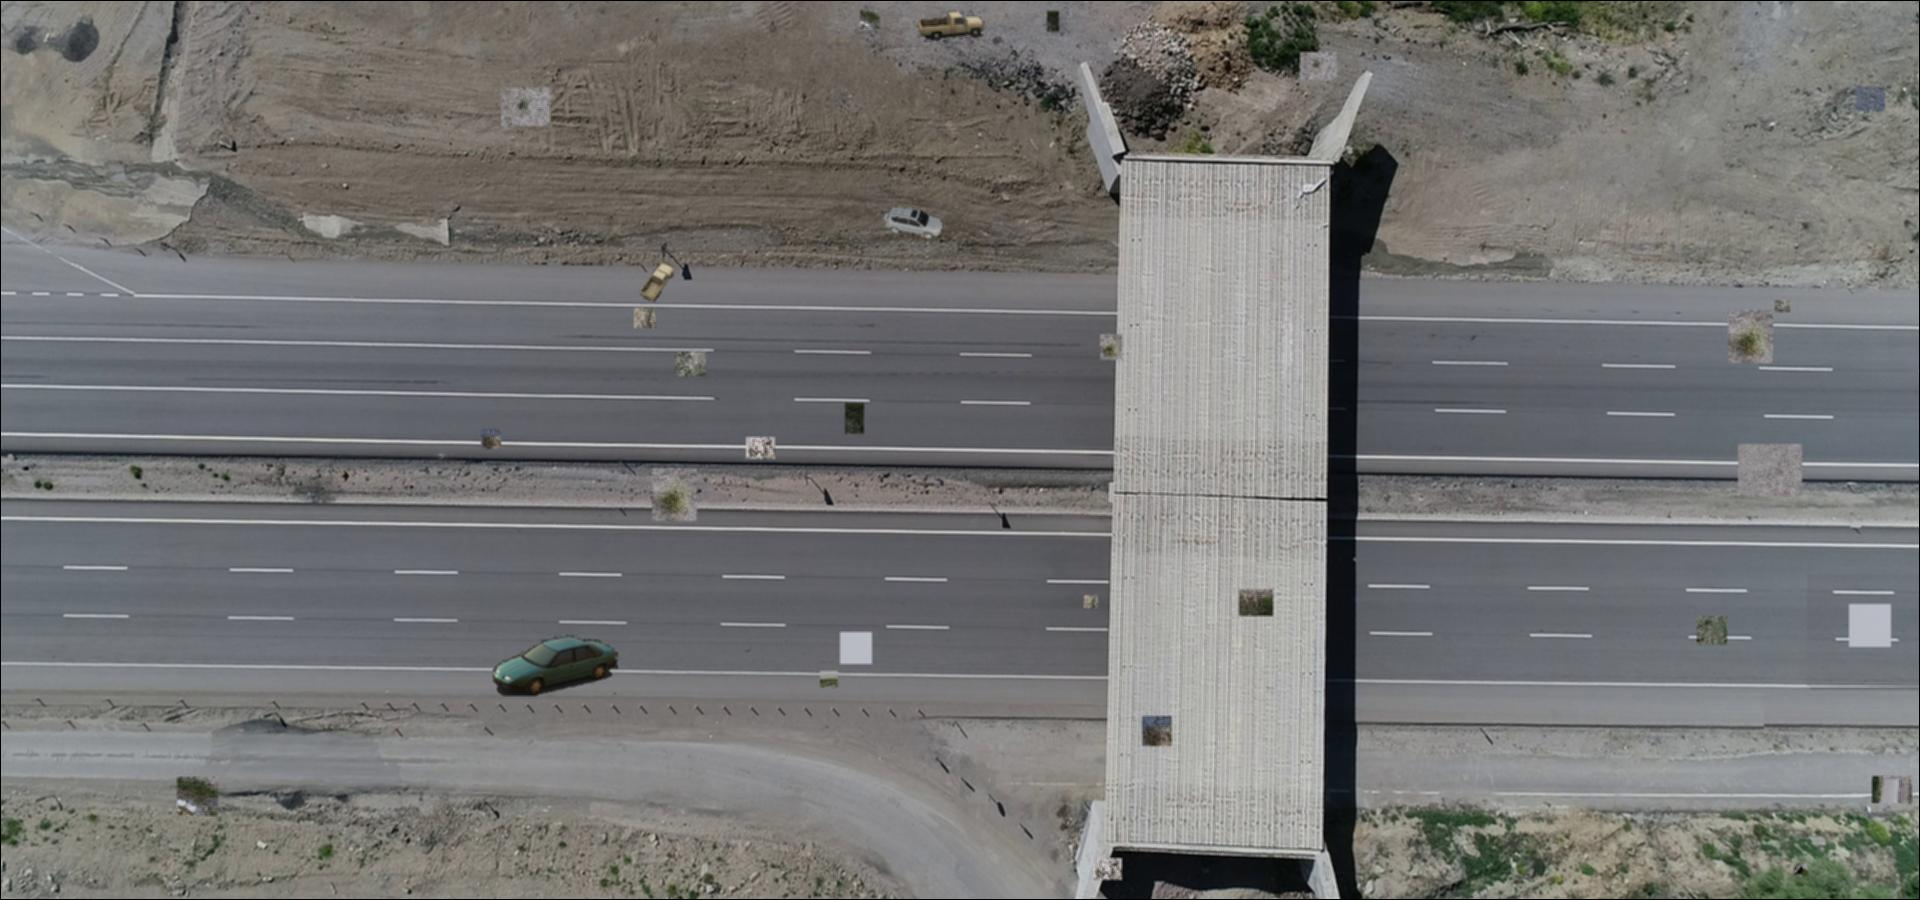arac: (493, 631, 618, 696), (918, 10, 984, 43), (882, 206, 943, 240), (637, 262, 677, 302)
